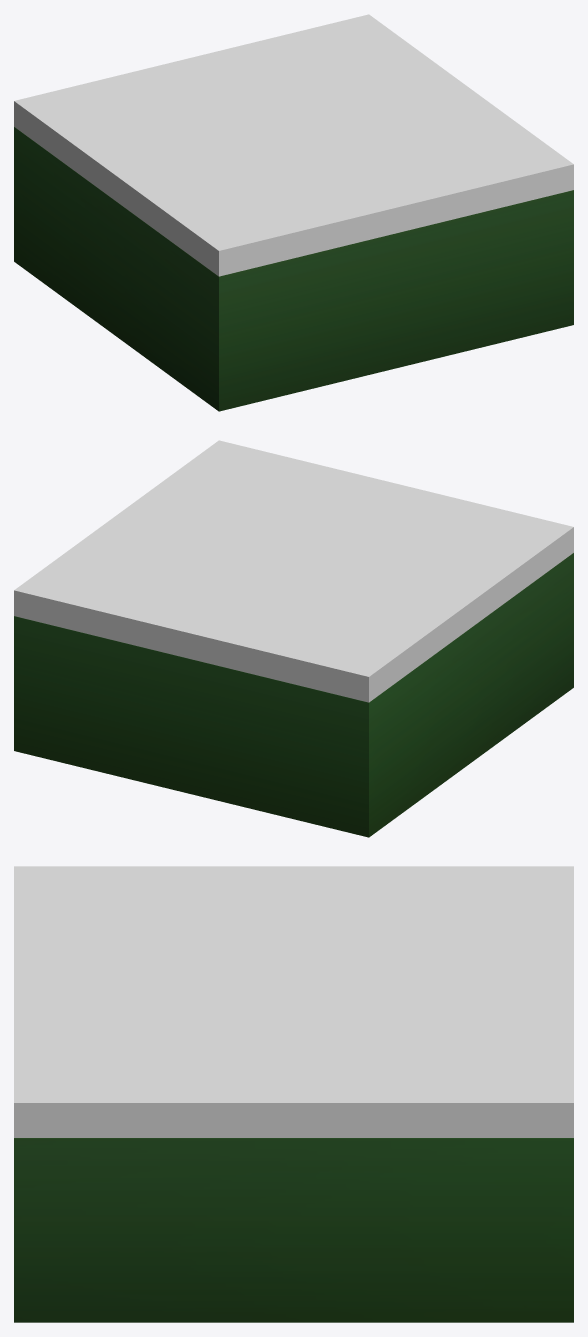
File: Room.fbx
3 views of the same model, one above another, from view 1: azimuth 30°, elevation 25°; view 2: azimuth 150°, elevation 25°; view 3: azimuth 270°, elevation 25° (orthographic). The views are drawn at different scales.
Visible parts, largest first — view 1: Cube, Room; view 2: Cube, Room; view 3: Cube, Room.
Part boxes in pixels (x1=…): Cube: x1=14, y1=14, x2=573, y2=276; Room: x1=14, y1=127, x2=573, y2=411; Cube: x1=14, y1=440, x2=573, y2=702; Room: x1=14, y1=553, x2=573, y2=837; Cube: x1=14, y1=866, x2=573, y2=1137; Room: x1=14, y1=1138, x2=573, y2=1322.
Size of the model in its own units: 926 by 400 by 926.
